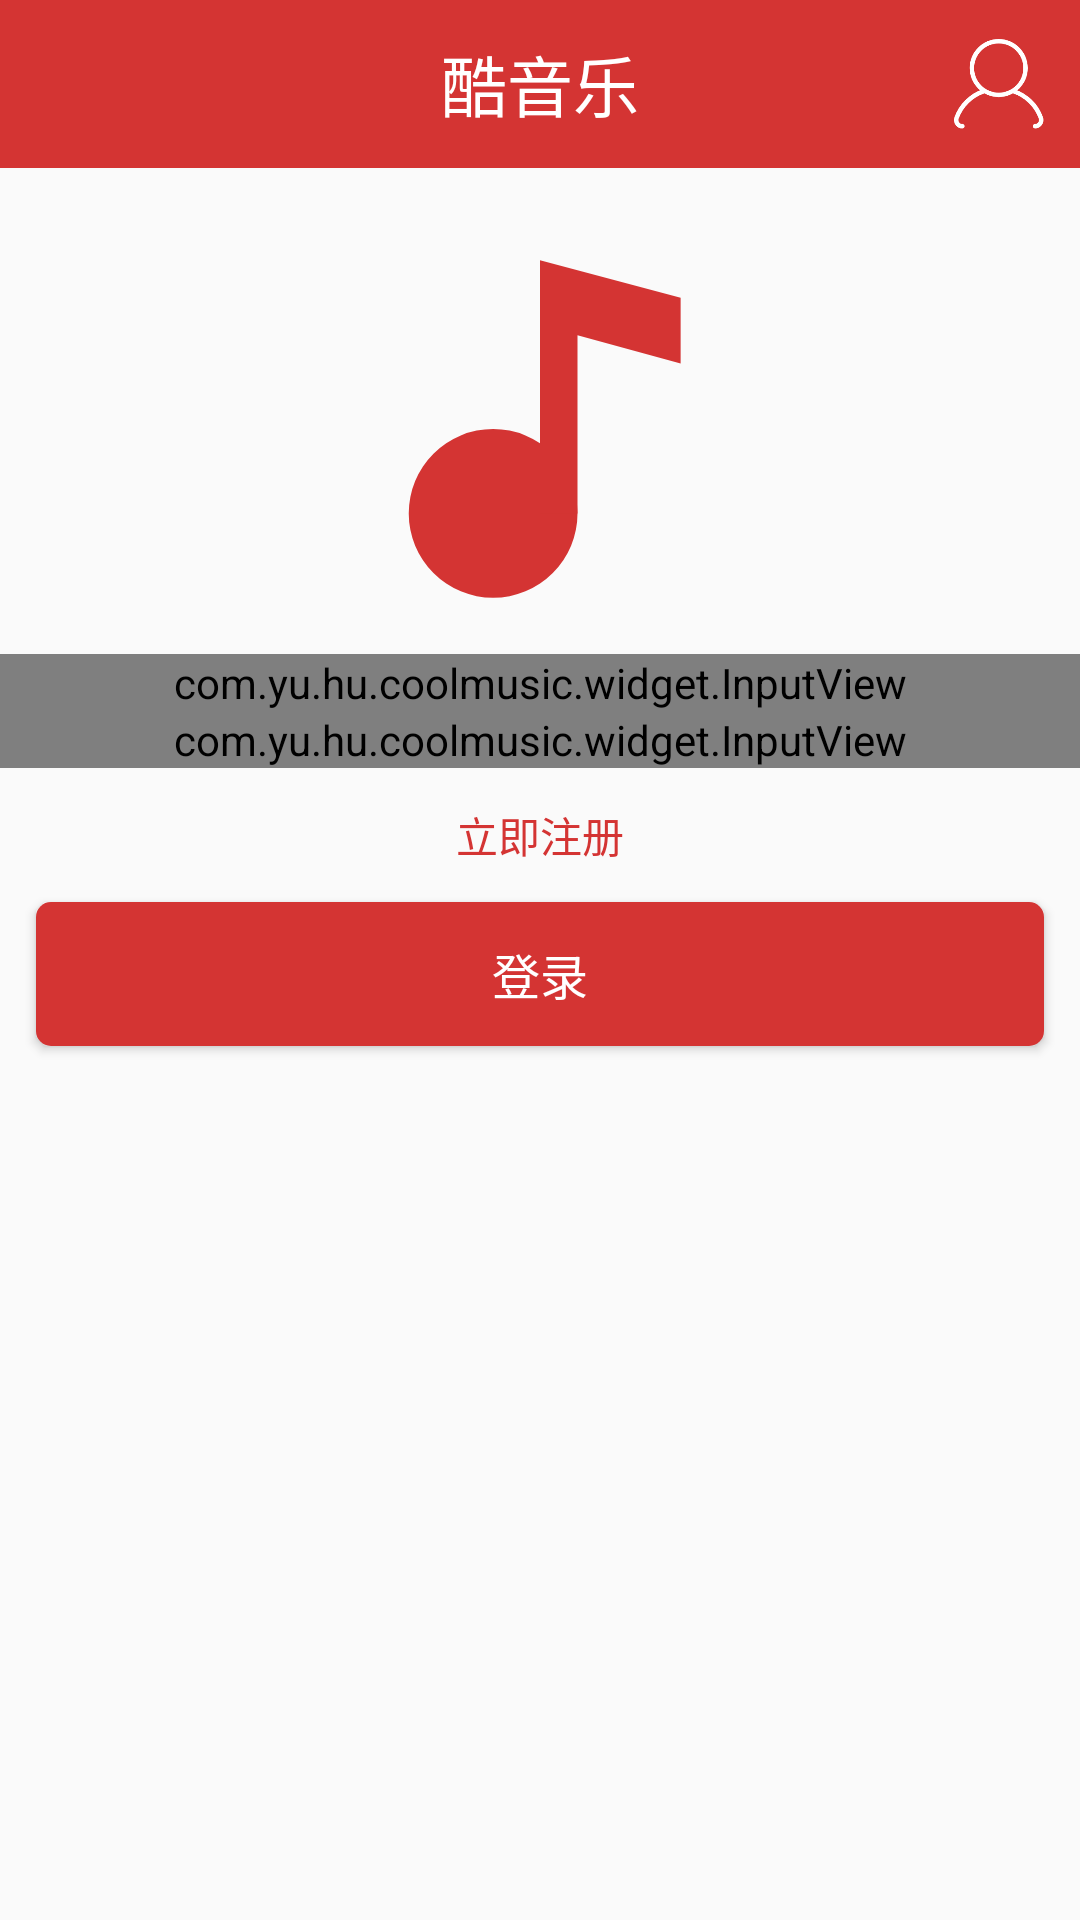

Icons on this 1080*1920 Android screen, each with the point to tap as [x,y]:
personal: [999,84]
